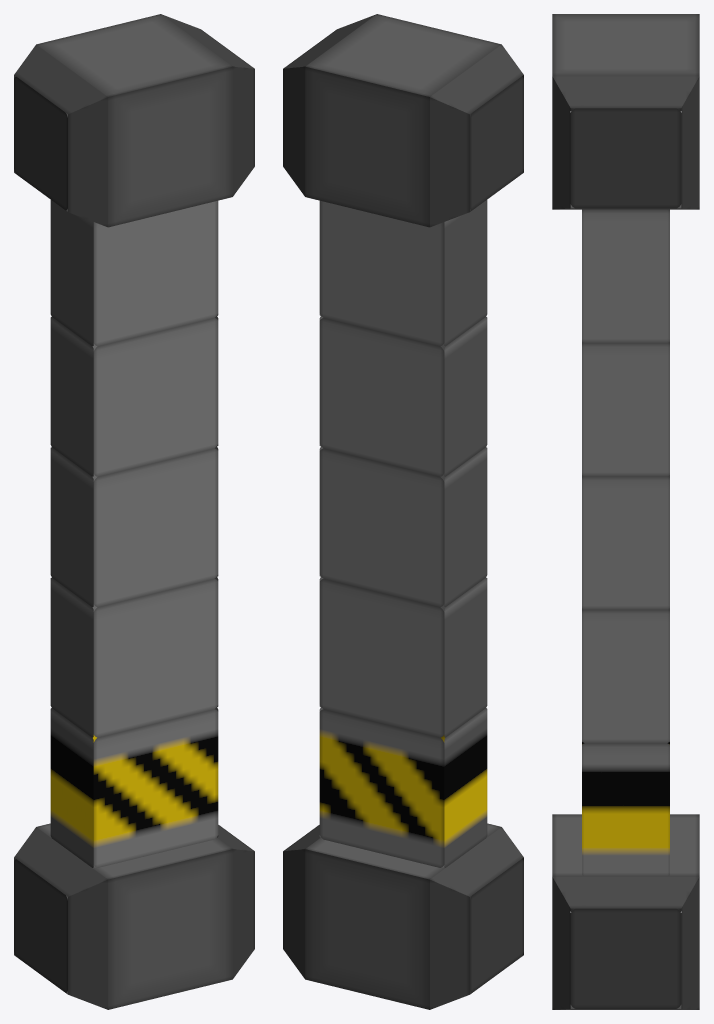
File: sliding_blast_door.obj
3 views of the same model, side by side, from view 1: azimuth 30°, elevation 25°; view 2: azimuth 150°, elevation 25°; view 3: azimuth 270°, elevation 25° (orthographic). The views are drawn at different scales.
Visible parts, largest first — view 1: Cube.001_Cube.002; view 2: Cube.001_Cube.002; view 3: Cube.001_Cube.002.
Boxes of the visible parts, box(x1,y1,x2,y2) form: Cube.001_Cube.002: box(14, 14, 254, 1009); Cube.001_Cube.002: box(283, 14, 523, 1009); Cube.001_Cube.002: box(552, 14, 699, 1009).
Size of the model in its own units: 1.5 by 7 by 1.
